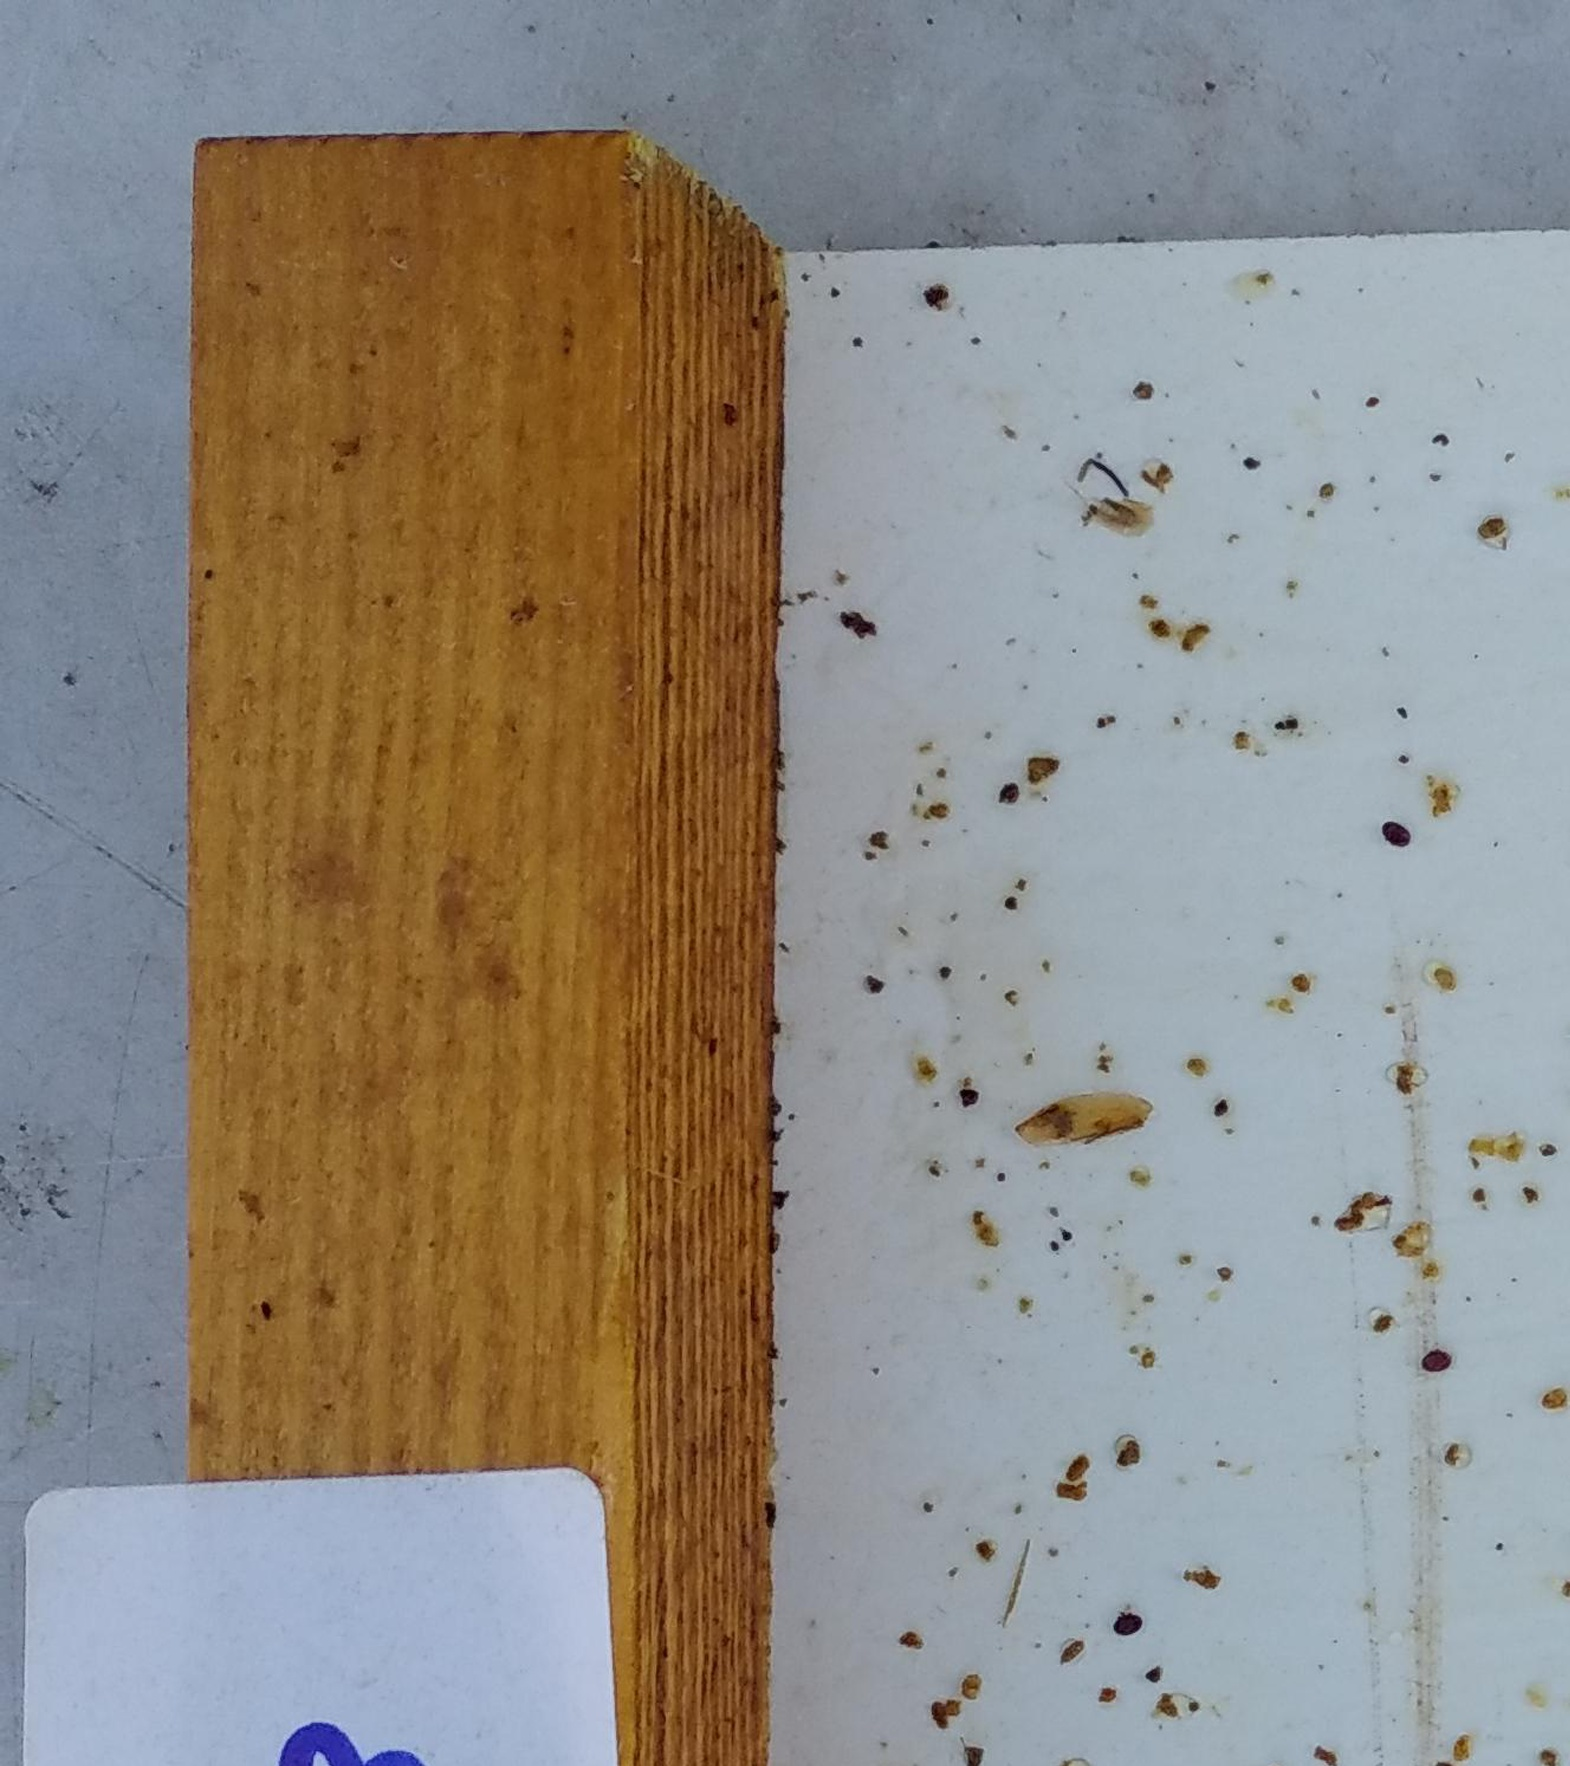Varroa: (1112, 1439, 1143, 1469), (999, 781, 1024, 806), (1384, 828, 1408, 852), (1114, 1605, 1137, 1630), (1421, 1351, 1441, 1370)
